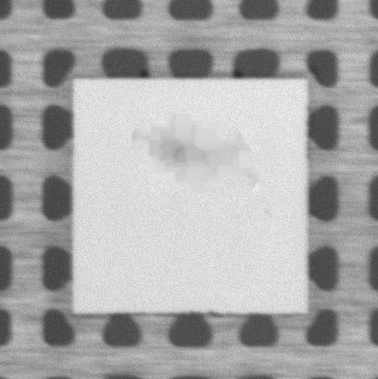DIE_INK: (122, 111, 265, 210)
